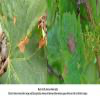grape leaf black rot: (2, 1, 47, 84), (59, 8, 89, 84)
